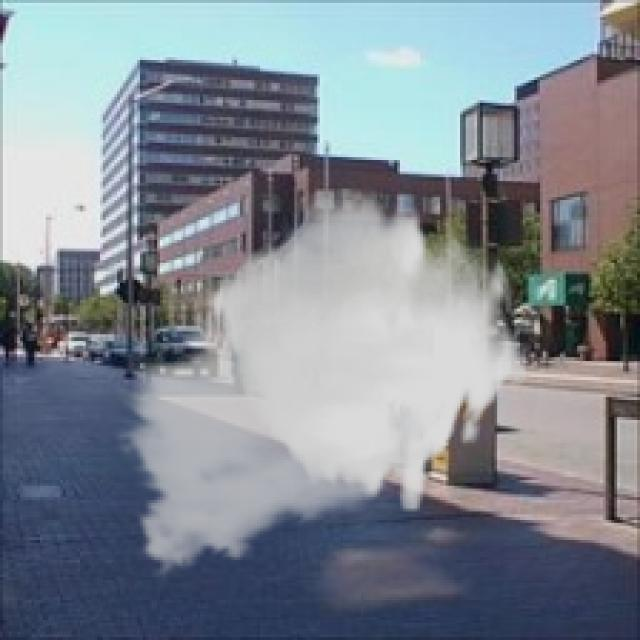smoke: (114, 188, 529, 586)
